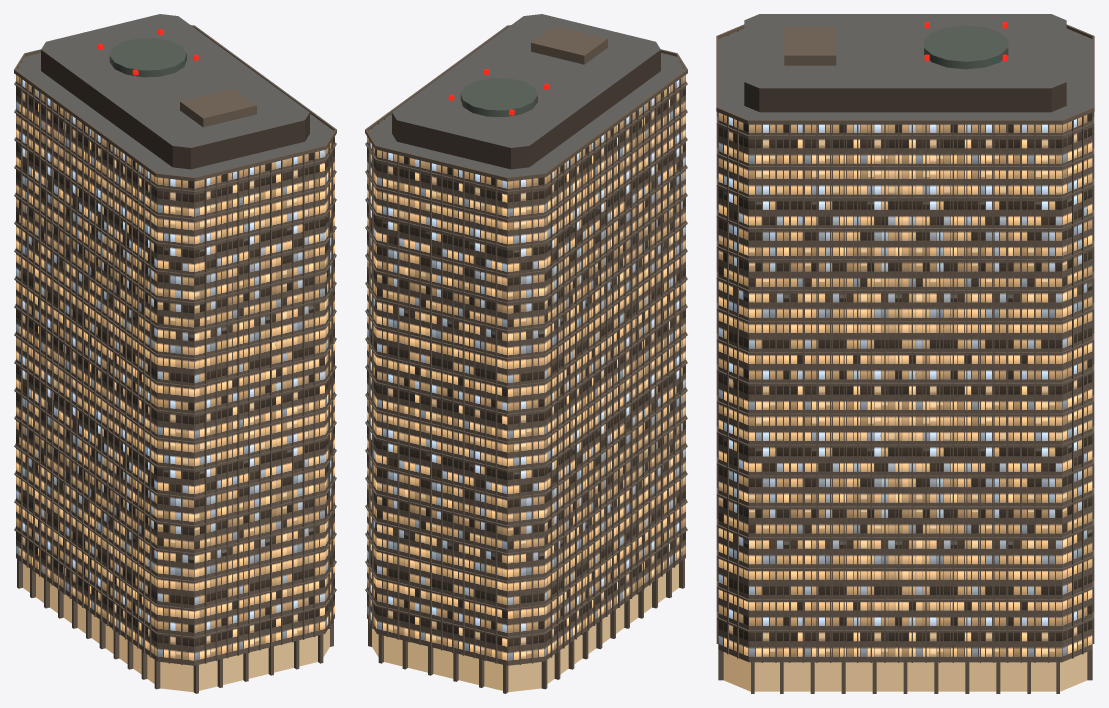
The model's file is ark_mori_building.glb.
3 renders of one model, left to right at view 1: azimuth 30°, elevation 25°; view 2: azimuth 150°, elevation 25°; view 3: azimuth 270°, elevation 25°, orthographic. The views are drawn at different scales.
Parts seen in each view (by area): view 1: ark_mori_building; view 2: ark_mori_building; view 3: ark_mori_building.
Part boxes in pixels (x1,y1,x2,y2): ark_mori_building: [14, 14, 336, 693]; ark_mori_building: [365, 14, 687, 693]; ark_mori_building: [716, 14, 1094, 693].
Size of the model in its own units: 53 by 153 by 86.5.
Materials: 2 (2 with a texture image).
